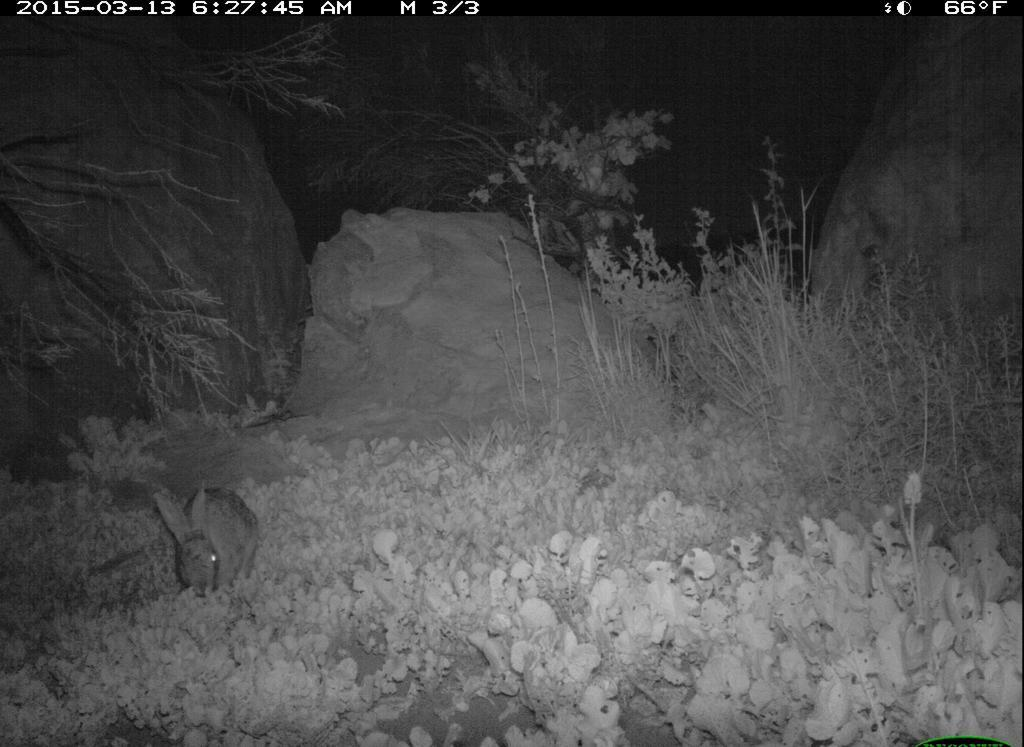rabbit: (146, 472, 272, 607)
